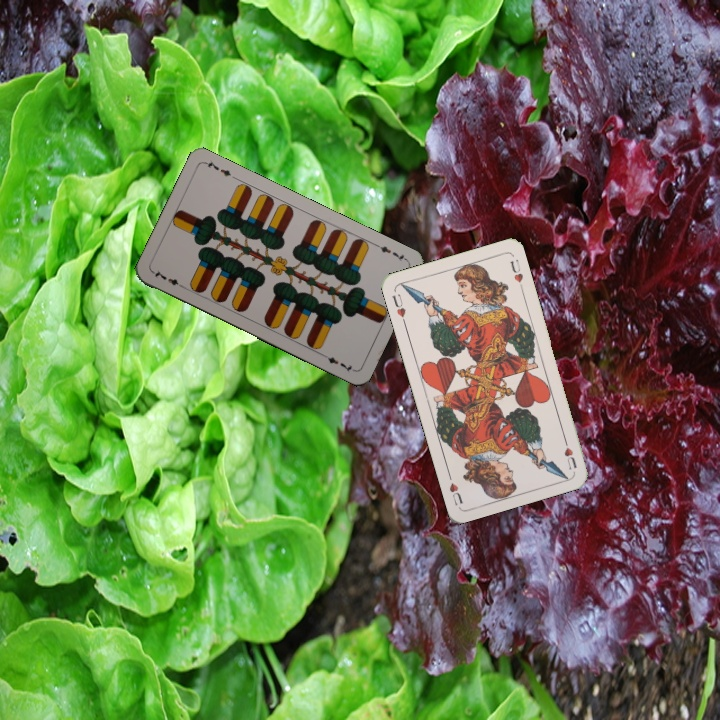E7: (149, 266, 187, 291), (372, 240, 410, 263)
HU: (388, 290, 409, 327), (560, 434, 579, 472)
